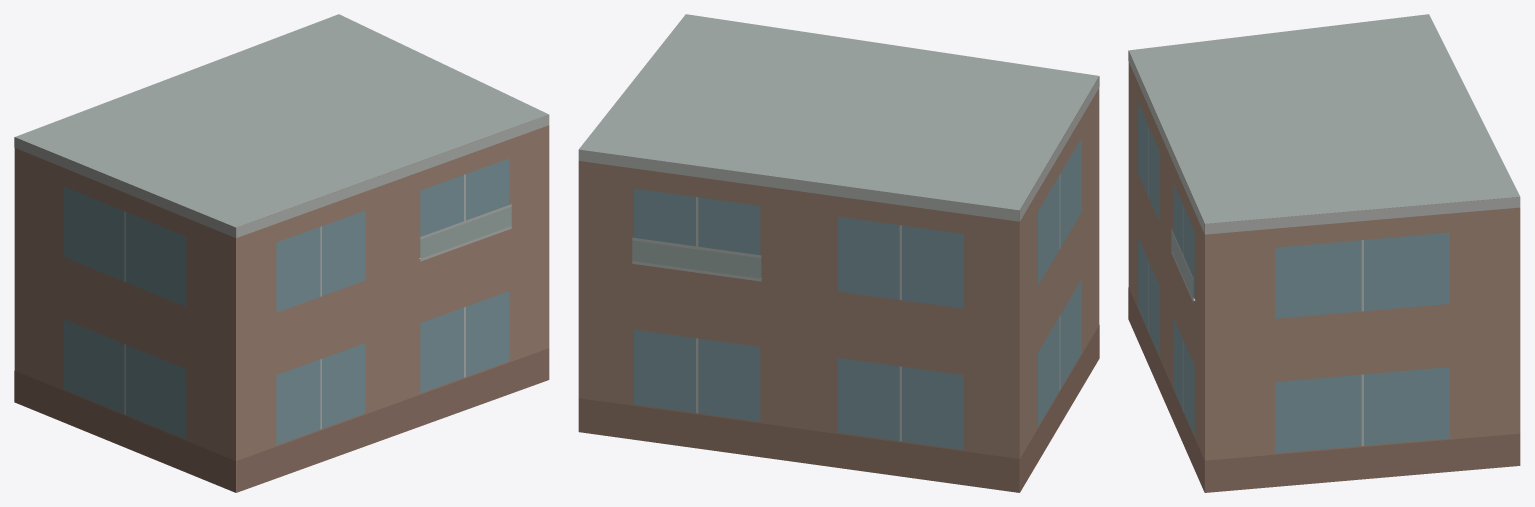
The model's file is survey-upis-32789174.glb.
3 renders of one model, left to right at view 1: azimuth 30°, elevation 25°; view 2: azimuth 150°, elevation 25°; view 3: azimuth 270°, elevation 25°, orthographic. The views are drawn at different scales.
Visible parts, largest first — view 1: survey-upis-32789174.tmp; view 2: survey-upis-32789174.tmp; view 3: survey-upis-32789174.tmp.
Part boxes in pixels (box(x1,y1,x2,y2)): survey-upis-32789174.tmp: box(14, 14, 549, 492); survey-upis-32789174.tmp: box(578, 14, 1099, 492); survey-upis-32789174.tmp: box(1128, 14, 1520, 492).
Bounding box in the file's own units: 10.22 × 6.1 × 8.06.
